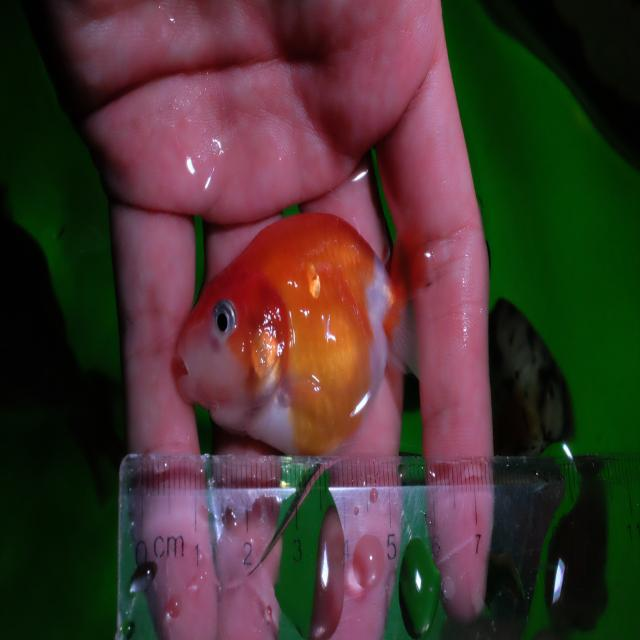Tilapia: (175, 210, 433, 458)
